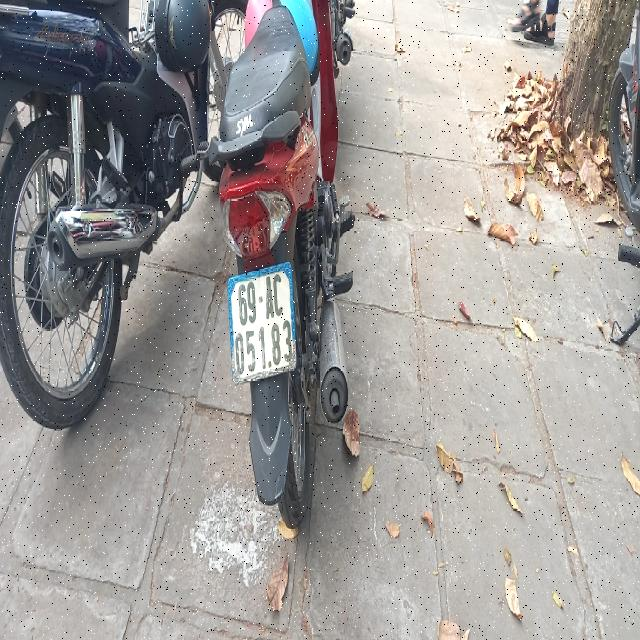0: (234, 333, 245, 376)
1: (258, 326, 266, 369)
3: (282, 320, 293, 364)
5: (245, 327, 256, 373)
6: (238, 283, 248, 324)
8: (271, 323, 283, 368)
9: (247, 282, 256, 322)
A: (266, 275, 273, 321)
C: (275, 274, 283, 315)
